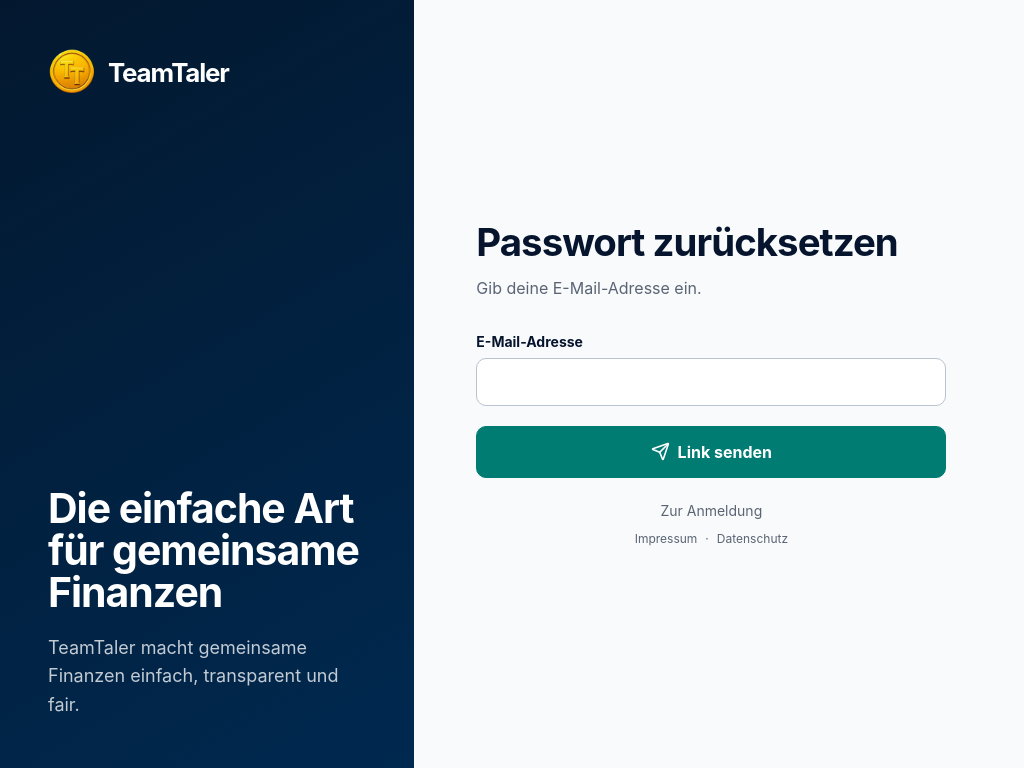
it: authentication form policies › requests a reset without exposing account existence
The image size is (1024, 768).
In the field labelled "E-Mail-Adresse": (711, 382) [476,358,946,406], type "alex@example.test"
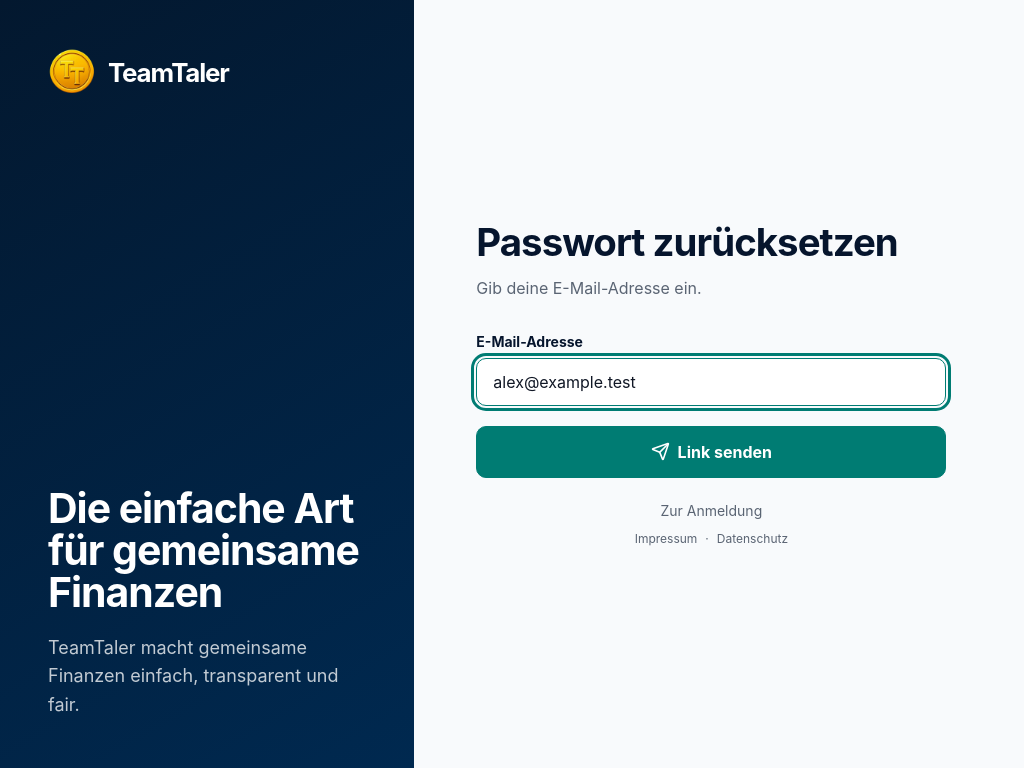
Click the button "Link senden": (711, 452) [476,426,946,478]
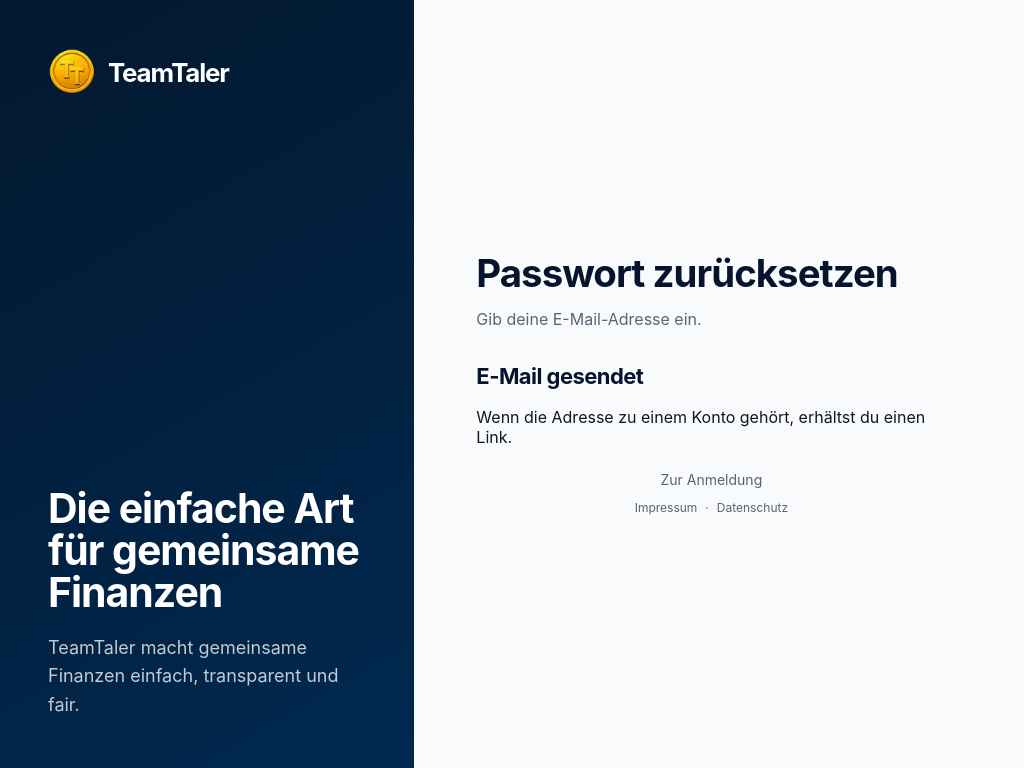
Result: the text "Wenn die Adresse zu einem Konto gehört, erhältst du einen Link." is shown at [476,407,946,447]
